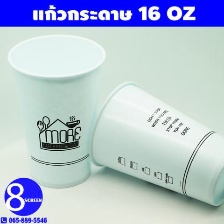paper_cup: (85, 76, 223, 210), (1, 30, 111, 192)
